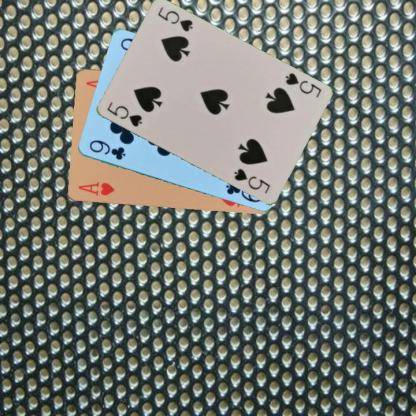5s: (282, 70, 322, 99), (104, 99, 143, 128)
9c: (86, 136, 127, 162)
Ah: (75, 180, 116, 198)
